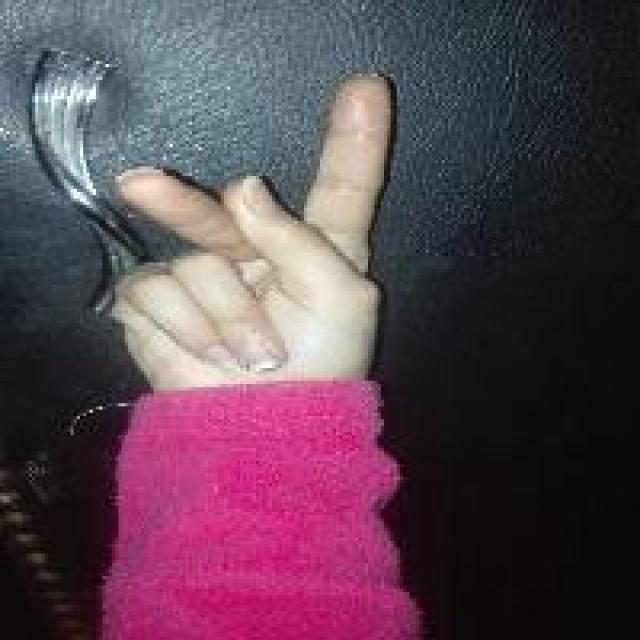K: (91, 66, 411, 392)
